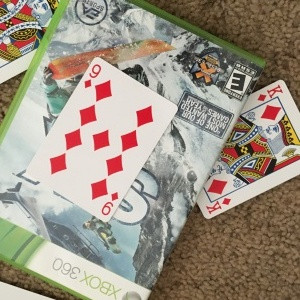card: (27, 56, 178, 223), (193, 80, 299, 220)
